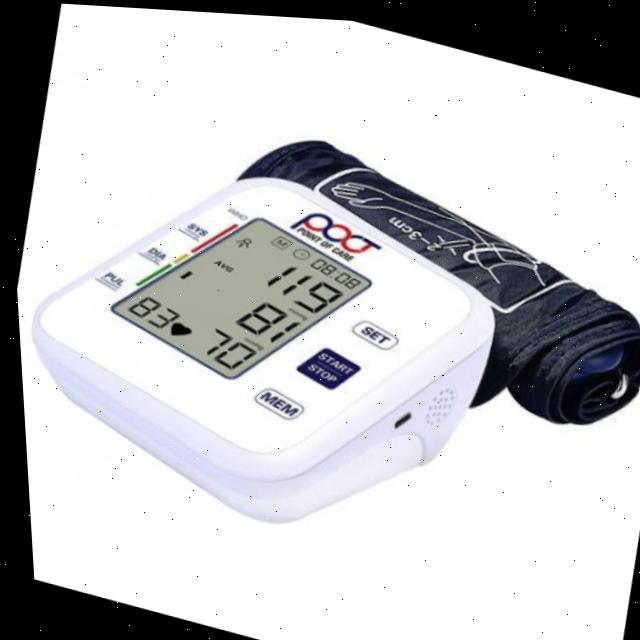dia: (212, 273, 300, 353)
pul: (180, 309, 260, 380)
ssd: (108, 176, 368, 409)
sys: (245, 242, 345, 324)
